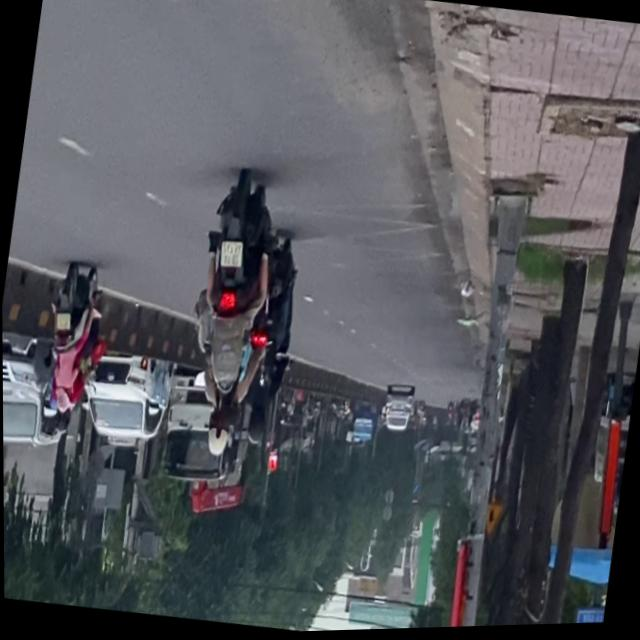helmet: (201, 415, 229, 459), (50, 409, 69, 436)
licenseplate: (173, 167, 284, 465), (34, 260, 106, 441)
motorcyclist: (216, 382, 244, 430)
nohelmet: (217, 239, 244, 270), (53, 313, 68, 331)
